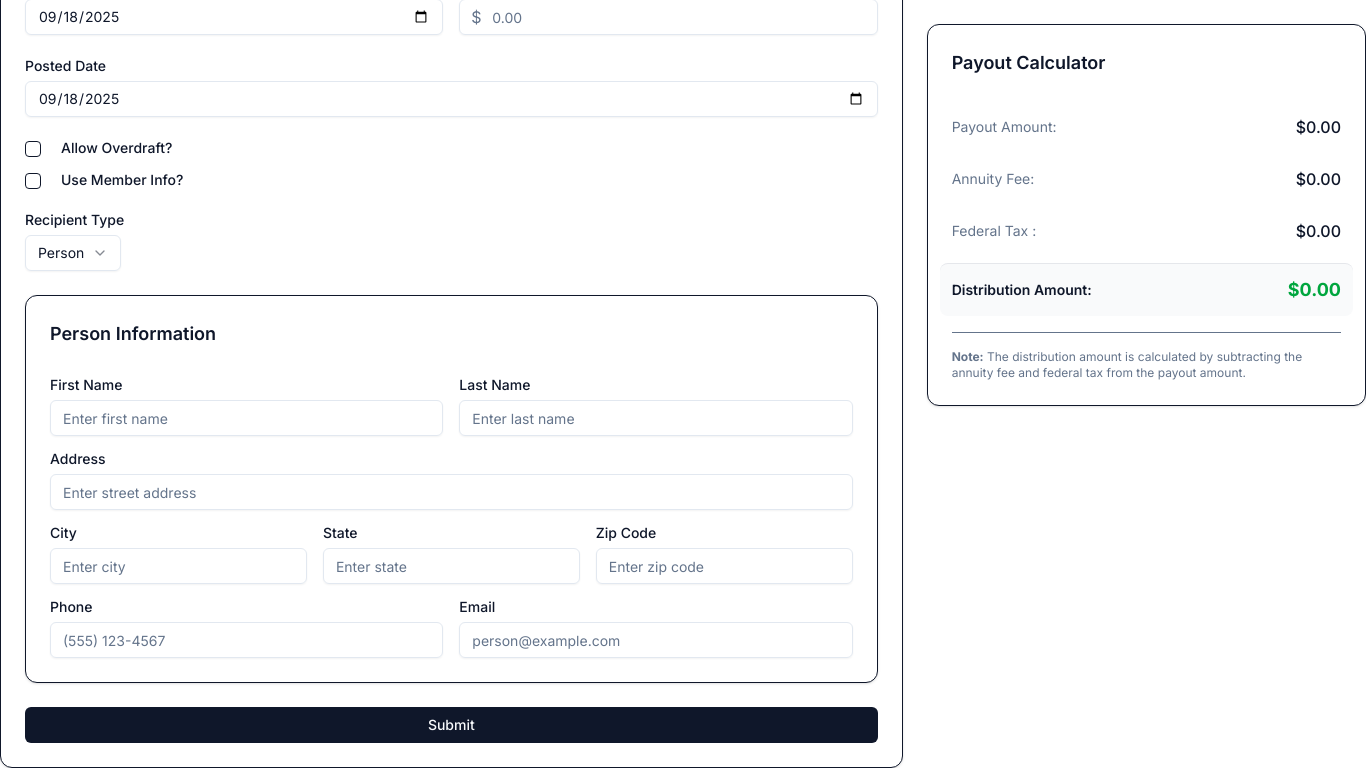
Test: AnnuityPayoutForm › validates required fields
(page scrolled)
Click the button "Submit": (451,725) x1=25 y1=707 x2=878 y2=743
(page scrolled)
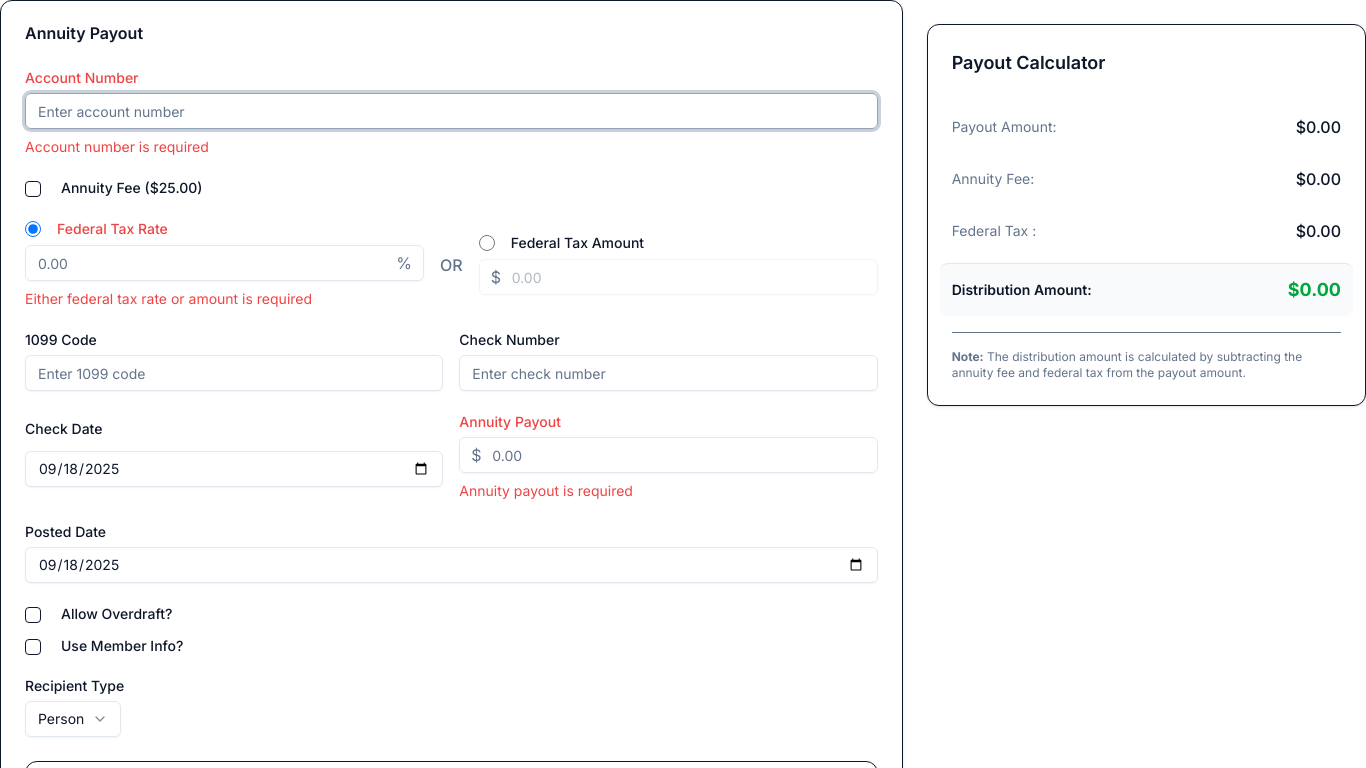
expect the text "Account number is required" is shown: met, box x1=25 y1=138 x2=209 y2=155
expect the text "Annuity payout is required" is shown: met, box x1=459 y1=482 x2=633 y2=499
expect the text "Either federal tax rate or amount is required" is shown: met, box x1=25 y1=290 x2=312 y2=307
